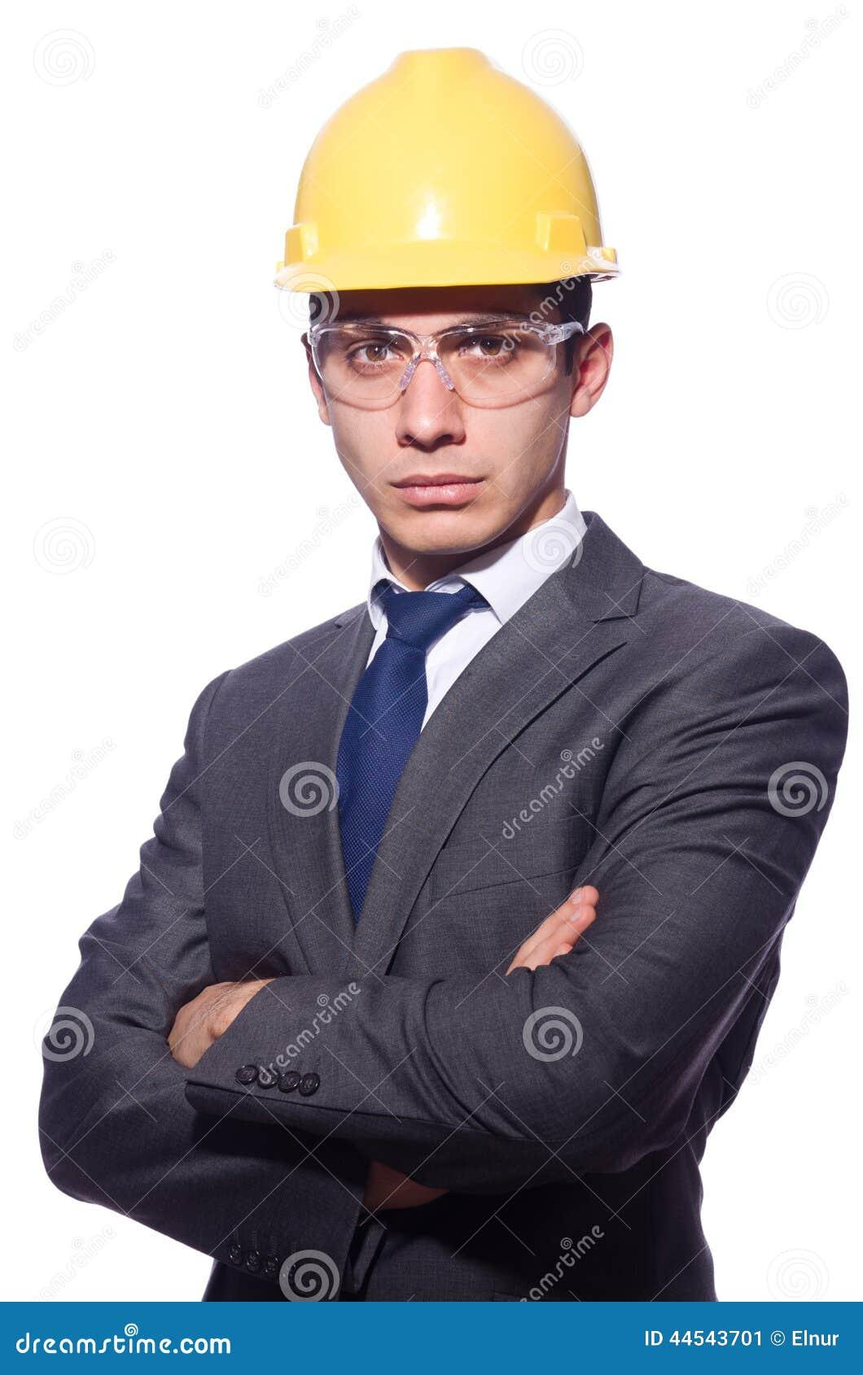cap: (265, 24, 664, 330)
sunglasses: (285, 281, 582, 407)
